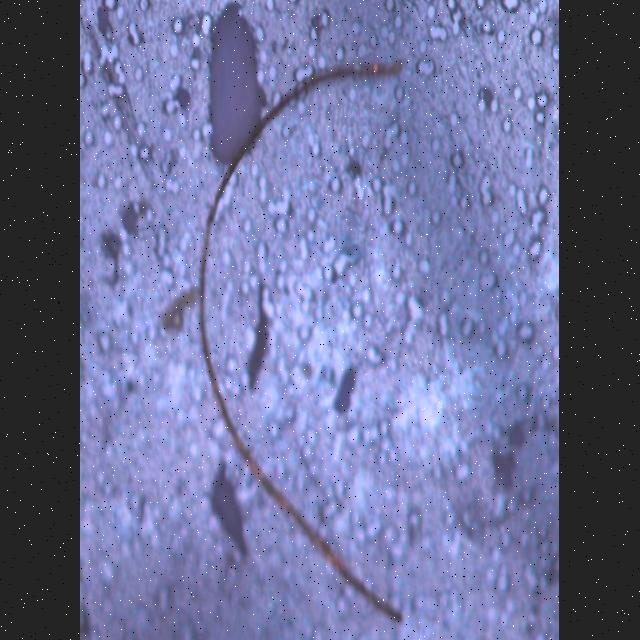Fibre: (197, 45, 406, 630)
